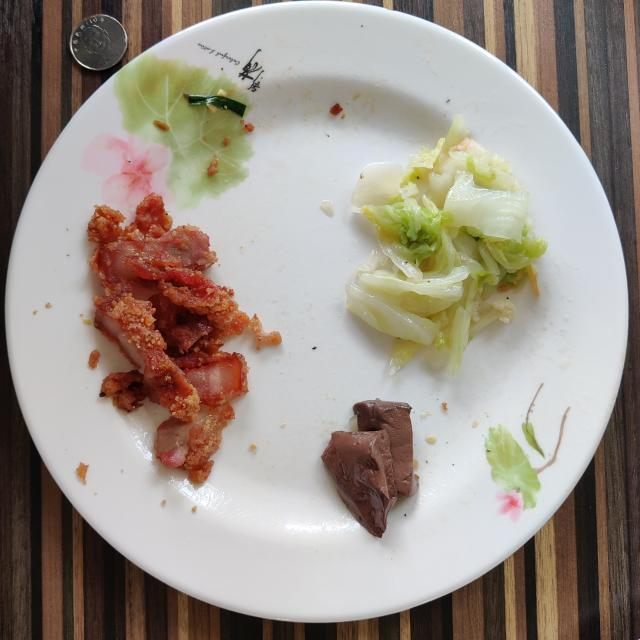cabbage: (346, 116, 548, 376)
coin: (70, 15, 128, 70)
pig blood curd: (321, 400, 419, 538)
red grilled pork: (88, 194, 281, 482)
